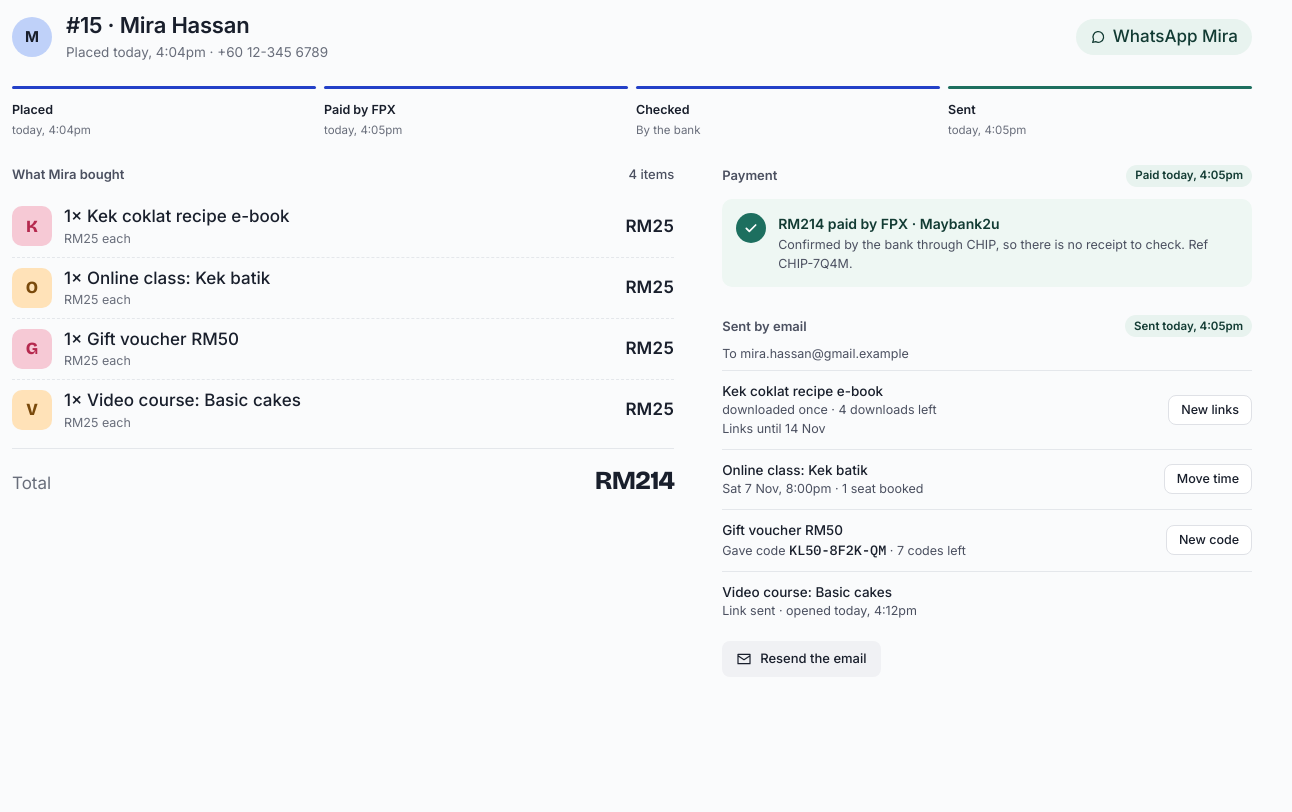
Test: Sent by email › shows the API’s own words in place when an action is refused, and reads the order again
Click the button "New code" at point(1209, 540), box [1166,525,1252,555]
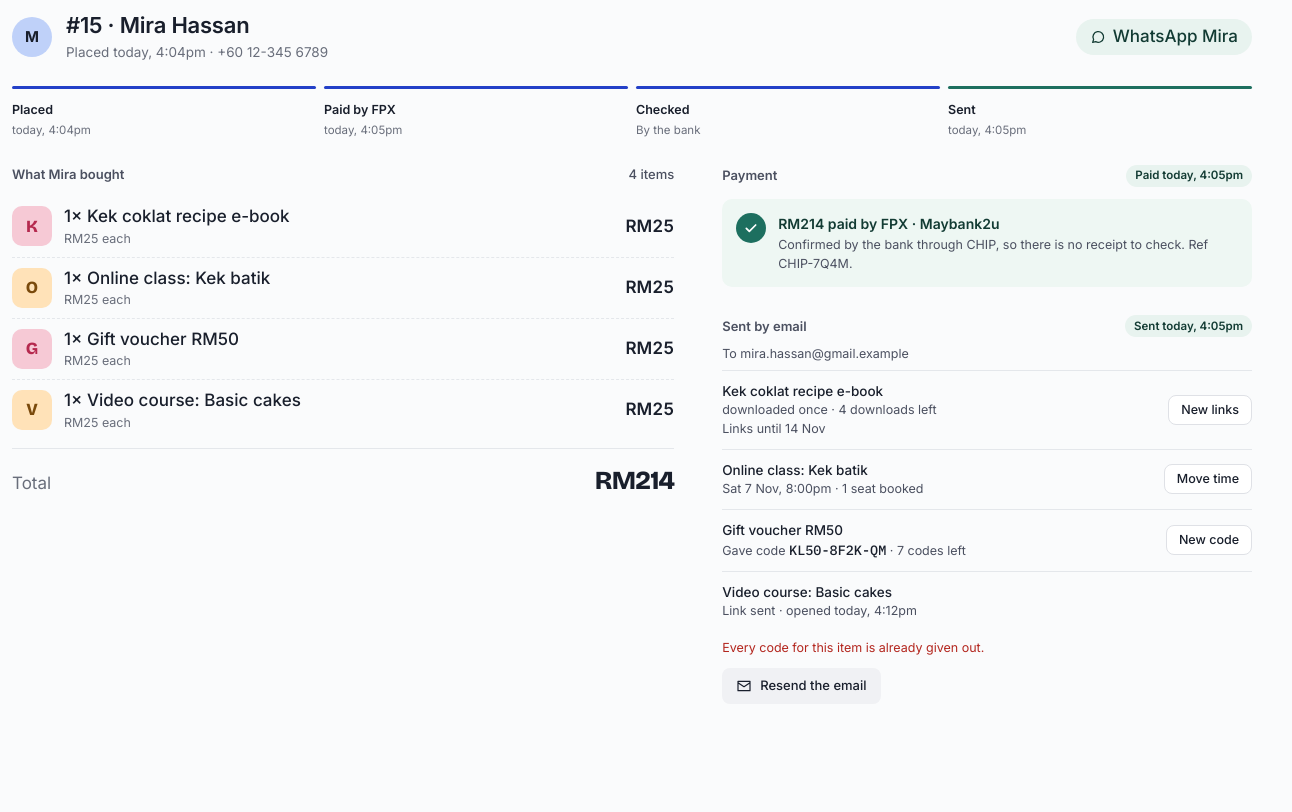
Now the message reads "Every code for this item is already given out.", box [722,640,984,655]
